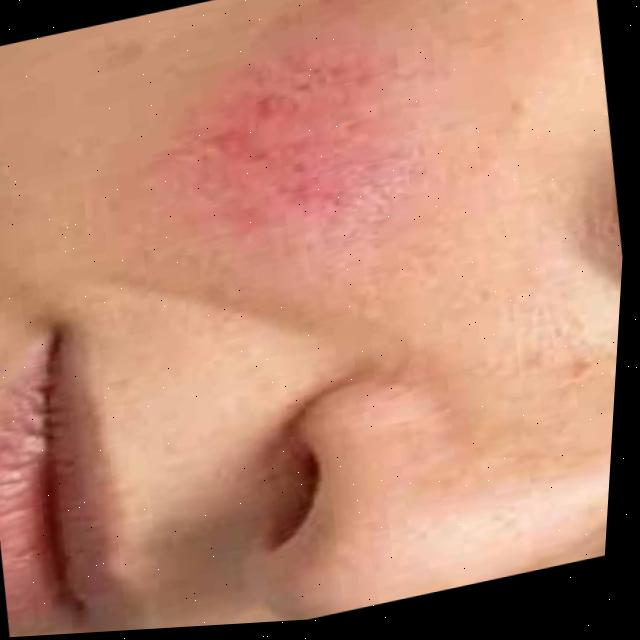Rosacea: (191, 29, 426, 289)
